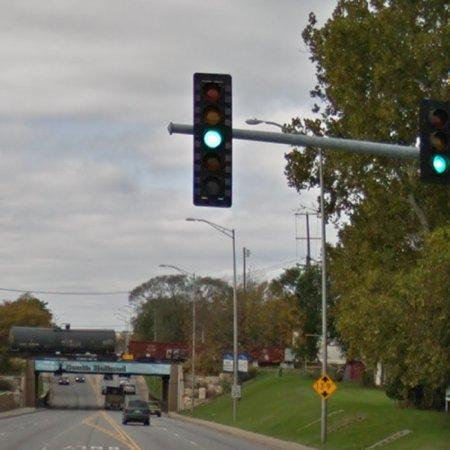traffic lights: (195, 72, 234, 207), (419, 97, 450, 182)
